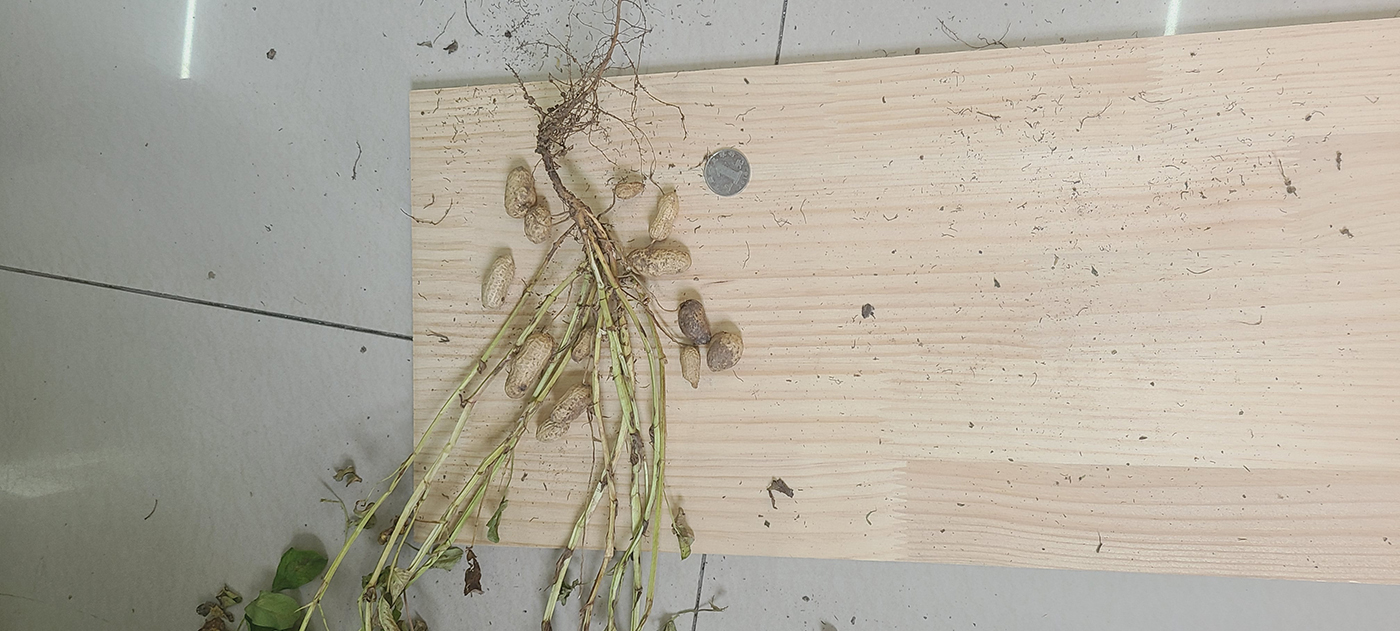h: (535, 383, 594, 442), (506, 331, 555, 400), (625, 247, 693, 277), (481, 254, 515, 310), (505, 166, 538, 218), (648, 190, 679, 241), (680, 346, 702, 391), (525, 205, 551, 243), (572, 326, 598, 362)
l: (676, 300, 712, 346), (706, 332, 745, 372)
